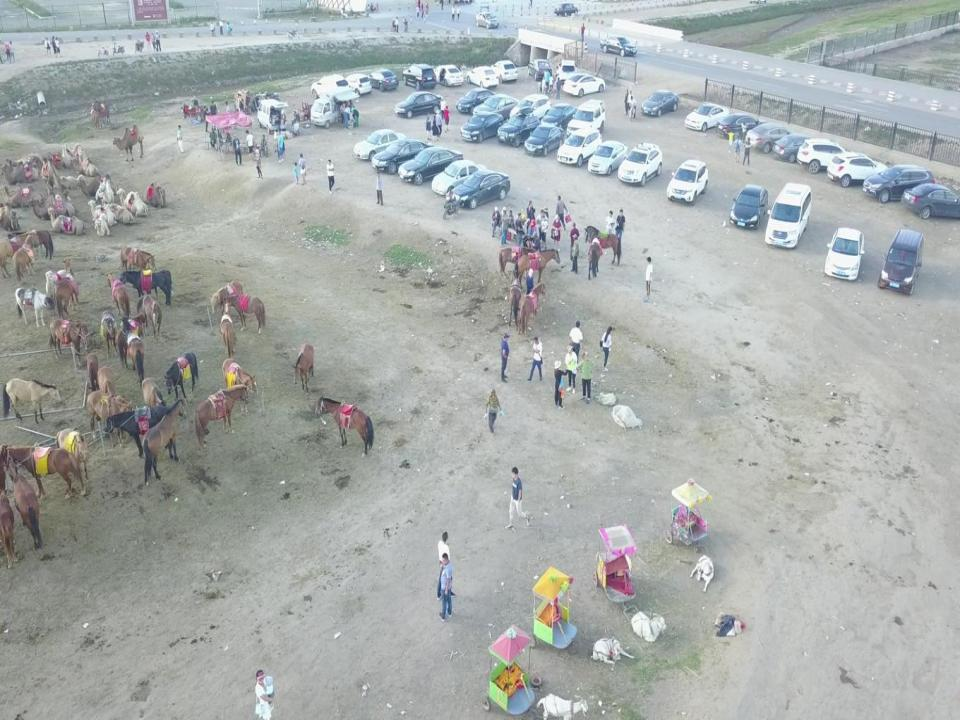car: (863, 164, 935, 203), (397, 146, 464, 185), (449, 170, 511, 210), (372, 137, 435, 175), (826, 154, 890, 190), (901, 184, 960, 221), (824, 228, 864, 281), (431, 160, 487, 197), (798, 137, 854, 174), (665, 159, 709, 206), (617, 142, 663, 186), (732, 182, 770, 231), (557, 127, 602, 167), (746, 124, 805, 154), (497, 107, 541, 147), (354, 128, 408, 160), (772, 133, 825, 164), (473, 93, 522, 122), (460, 110, 503, 143), (716, 113, 768, 140), (509, 94, 551, 127), (588, 141, 628, 175), (685, 102, 729, 132), (455, 86, 501, 114), (524, 124, 564, 156), (395, 91, 444, 117), (541, 102, 579, 131), (562, 72, 605, 97), (641, 90, 679, 117), (311, 74, 350, 100), (402, 63, 437, 90), (600, 35, 637, 56), (430, 64, 463, 86), (365, 69, 398, 91), (340, 73, 373, 95), (466, 66, 498, 87), (491, 59, 518, 82), (527, 58, 553, 81), (560, 58, 577, 82), (475, 12, 499, 28), (555, 2, 579, 17)
truck: (310, 94, 356, 128)
van: (764, 182, 812, 250), (877, 226, 924, 294), (567, 99, 606, 140), (257, 99, 287, 133)
